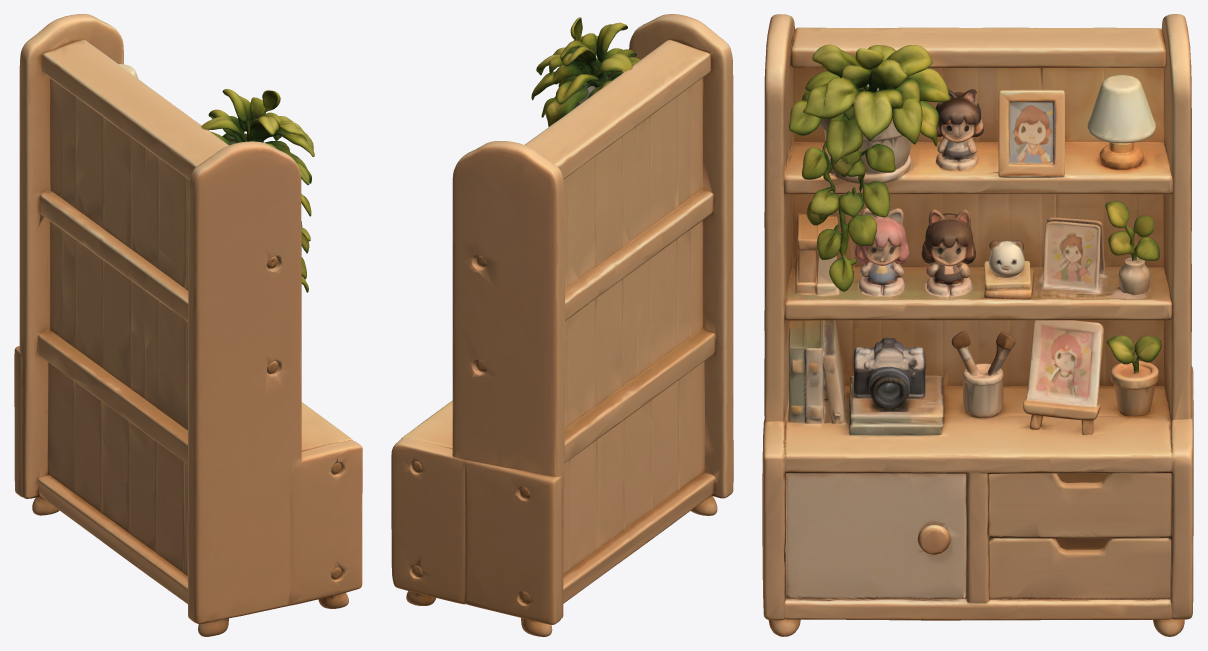
Rendered from display-6b2a99003f28.glb.
3 renders of one model, left to right at view 1: azimuth 30°, elevation 25°; view 2: azimuth 150°, elevation 25°; view 3: azimuth 270°, elevation 25°, orthographic. The views are drawn at different scales.
Visible parts, largest first — view 1: tripo_node_88a15f99-0787-47ed-b92c-79bfe9b0e392; view 2: tripo_node_88a15f99-0787-47ed-b92c-79bfe9b0e392; view 3: tripo_node_88a15f99-0787-47ed-b92c-79bfe9b0e392.
Boxes of the visible parts, x1,y1,x2,y2 form: tripo_node_88a15f99-0787-47ed-b92c-79bfe9b0e392: (14,14,362,636); tripo_node_88a15f99-0787-47ed-b92c-79bfe9b0e392: (391,14,733,636); tripo_node_88a15f99-0787-47ed-b92c-79bfe9b0e392: (762,14,1193,636).
Bounding box in the file's own units: 0.3499 × 0.9998 × 0.686.
Materials: 1 (1 with a texture image).
